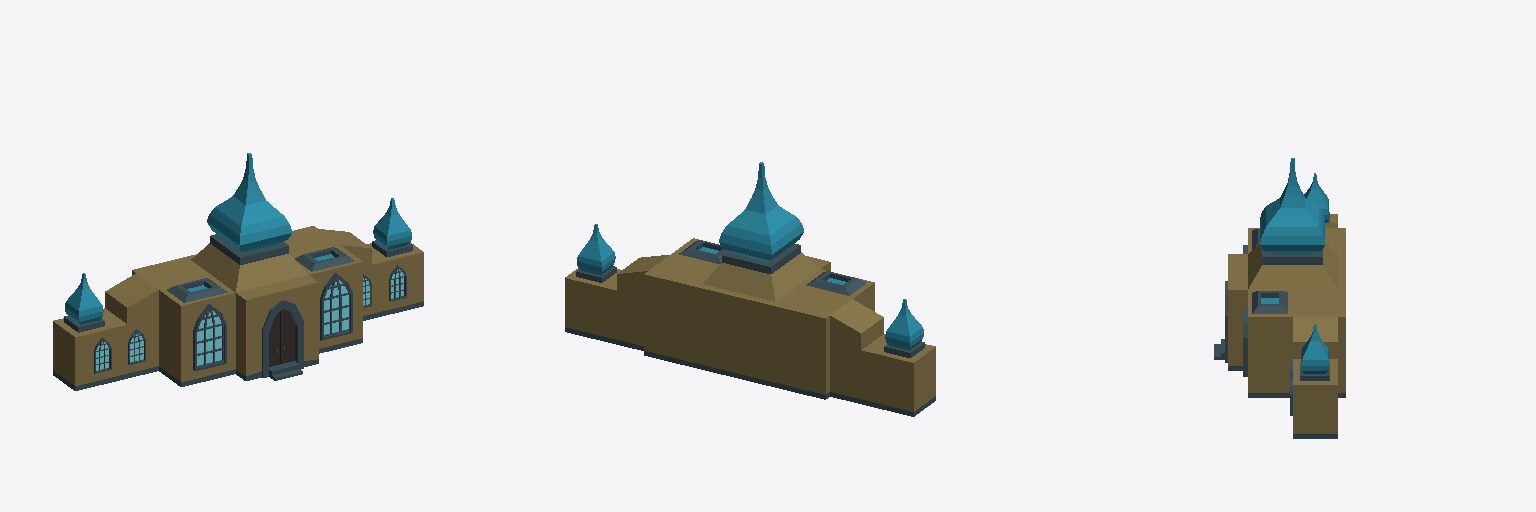
The model's file is Palace_Turk.obj.
3 views of the same model, side by side, from view 1: azimuth 30°, elevation 25°; view 2: azimuth 150°, elevation 25°; view 3: azimuth 270°, elevation 25° (orthographic).
Parts seen in each view (by area): view 1: Palace_Cube.038; view 2: Palace_Cube.038; view 3: Palace_Cube.038.
Boxes of the visible parts, <box> form: Palace_Cube.038: <box>53,153,423,390</box>; Palace_Cube.038: <box>565,162,935,416</box>; Palace_Cube.038: <box>1214,158,1345,438</box>.
Size of the model in its own units: 22.19 by 11.85 by 7.31.